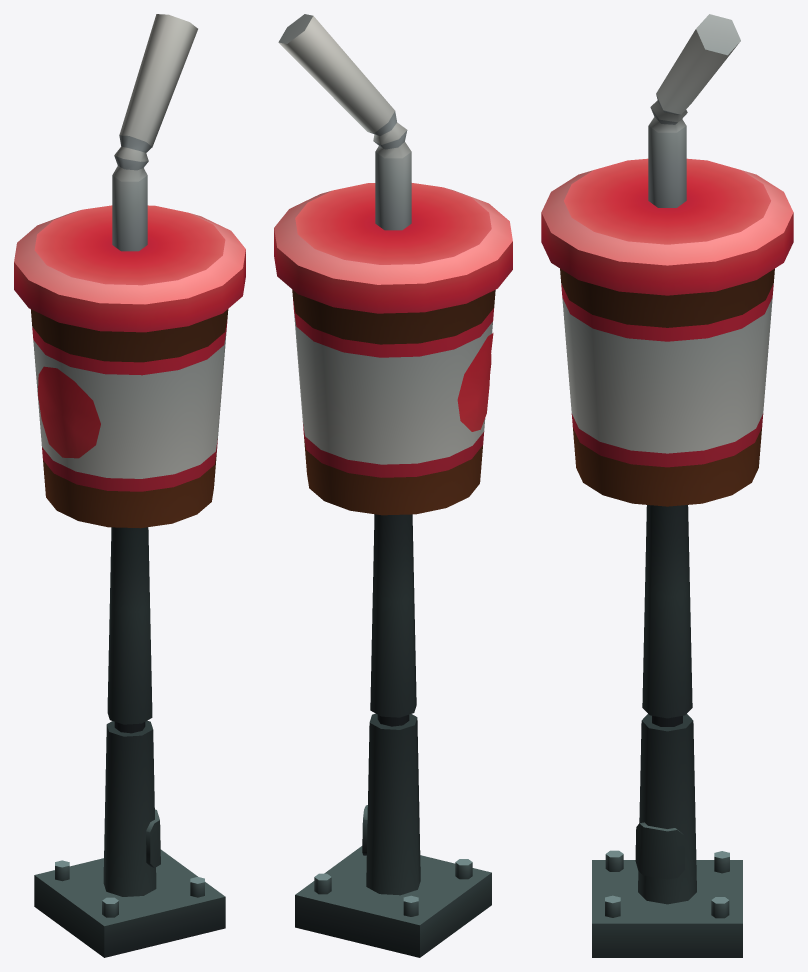
Rendered from Billboard_4A.fbx.
The picture shows the model from 3 angles, left to right: view 1: azimuth 30°, elevation 25°; view 2: azimuth 150°, elevation 25°; view 3: azimuth 270°, elevation 25°; orthographic projection. The views are drawn at different scales.
Parts seen in each view (by area): view 1: Billboard_4A_Rotating_Cup, Billboard_4A; view 2: Billboard_4A_Rotating_Cup, Billboard_4A; view 3: Billboard_4A_Rotating_Cup, Billboard_4A.
Part boxes in pixels (<box>): Billboard_4A_Rotating_Cup: <box>14,14,245,724</box>; Billboard_4A: <box>34,720,225,957</box>; Billboard_4A_Rotating_Cup: <box>274,14,512,717</box>; Billboard_4A: <box>295,713,491,957</box>; Billboard_4A_Rotating_Cup: <box>541,14,793,718</box>; Billboard_4A: <box>592,714,742,957</box>.
Size of the model in its own units: 334 by 1379 by 334.
